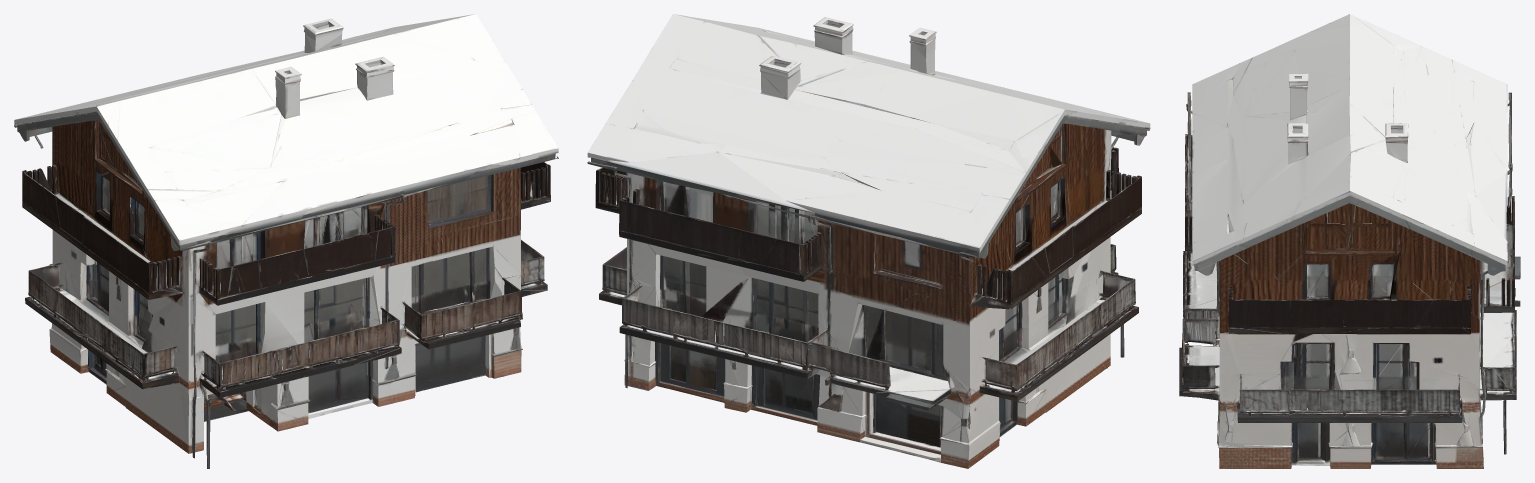
The model's file is apartment_modern.glb.
3 renders of one model, left to right at view 1: azimuth 30°, elevation 25°; view 2: azimuth 150°, elevation 25°; view 3: azimuth 270°, elevation 25°, orthographic. The views are drawn at different scales.
Size of the model in its own units: 1.9 by 1.44 by 1.45.
1 material, 1 textured.
